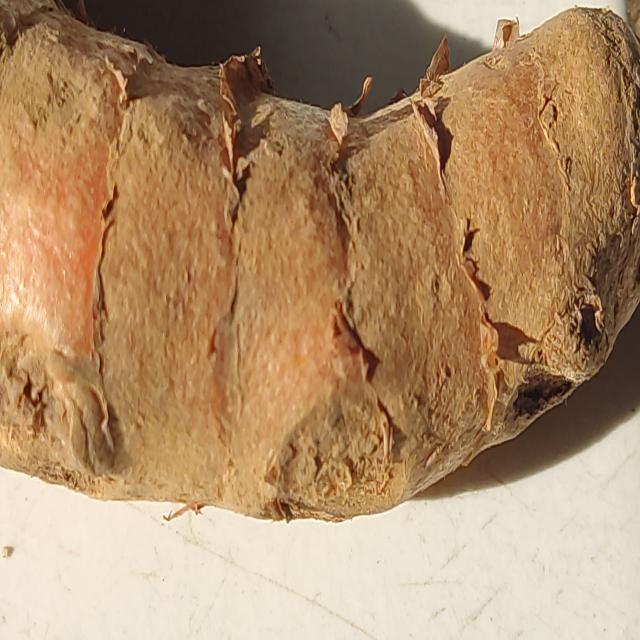ginger: (0, 0, 640, 501)
